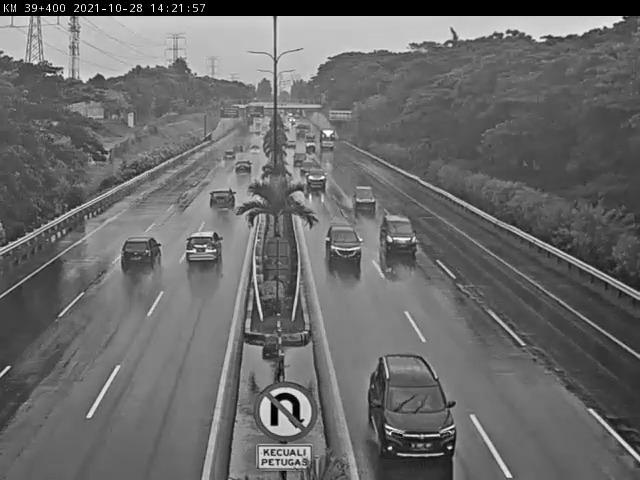car: (367, 353, 458, 459), (380, 212, 419, 256), (121, 235, 163, 274), (326, 229, 363, 268), (187, 229, 224, 264), (208, 186, 238, 214), (352, 185, 379, 211), (304, 166, 328, 189), (235, 159, 255, 177), (291, 151, 309, 168), (220, 150, 237, 165)
